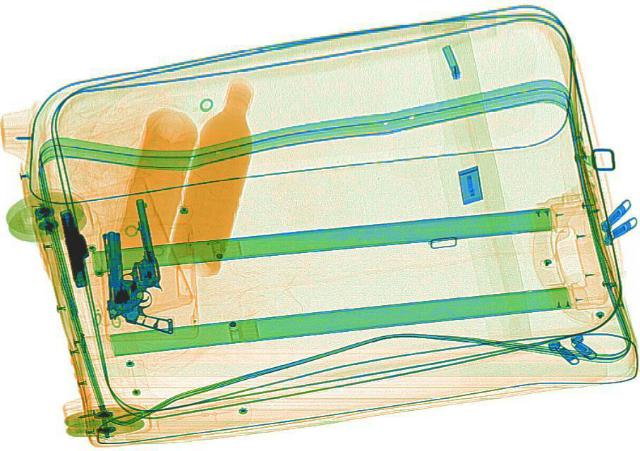Gun: (82, 224, 178, 339), (119, 194, 169, 293), (46, 209, 102, 290)
